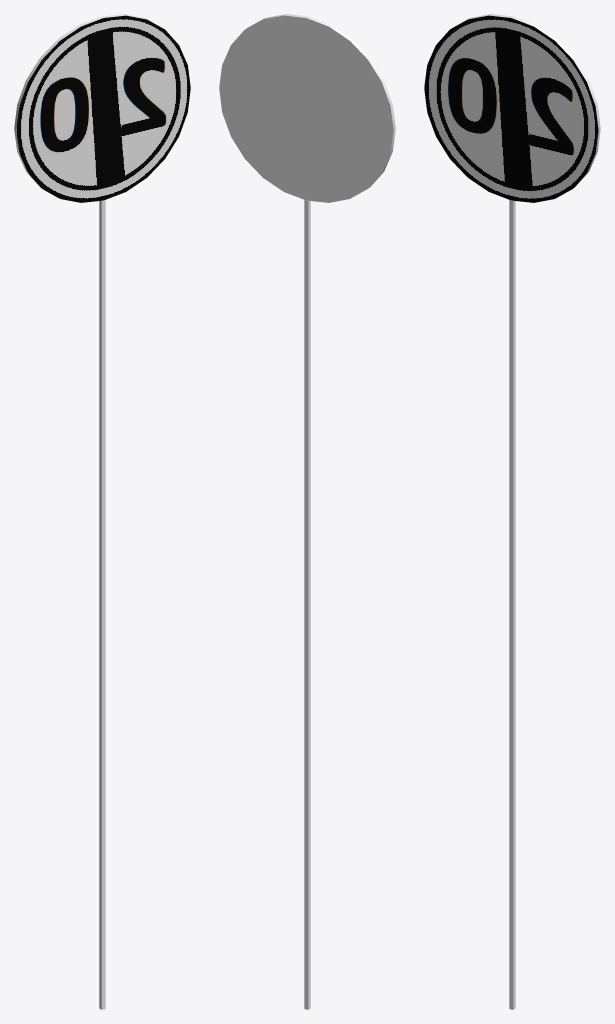
Rendered from trafik_levha_hiz_sinirlamasi_sonu.obj.
3 views of the same model, side by side, from view 1: azimuth 30°, elevation 25°; view 2: azimuth 150°, elevation 25°; view 3: azimuth 330°, elevation 25° (orthographic).
Visible parts, largest first — view 1: Mesh2 Group3 Group1 Model, Mesh1 Group2 Group1 Model; view 2: Mesh2 Group3 Group1 Model, Mesh1 Group2 Group1 Model; view 3: Mesh2 Group3 Group1 Model, Mesh1 Group2 Group1 Model.
Boxes of the visible parts, x1,y1,x2,y2 form: Mesh2 Group3 Group1 Model: (14,14,190,202); Mesh1 Group2 Group1 Model: (99,200,105,1009); Mesh2 Group3 Group1 Model: (219,14,395,202); Mesh1 Group2 Group1 Model: (304,200,310,1009); Mesh2 Group3 Group1 Model: (424,14,600,202); Mesh1 Group2 Group1 Model: (509,200,515,1009).
Bounding box in the file's own units: 451 × 2451 × 10.
Materials: 3 (1 with a texture image).
